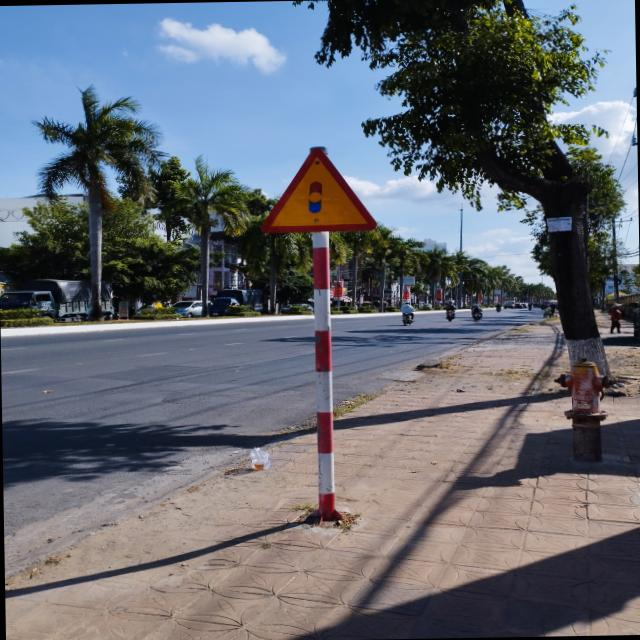Duong_Co_Go_Giam_Toc: (258, 144, 377, 234)
